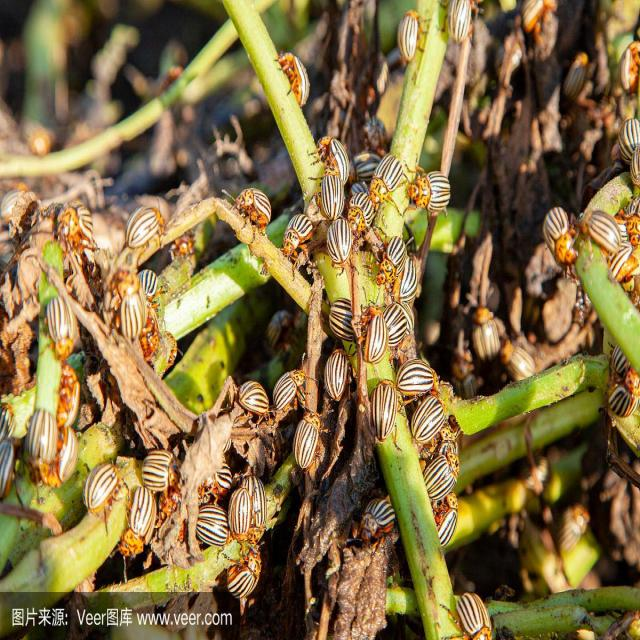ShuCaiHuaBanChong-Grown-: (218, 175, 282, 234), (538, 202, 580, 285), (408, 164, 464, 226), (57, 178, 98, 253), (394, 354, 444, 404), (377, 304, 420, 361), (365, 376, 399, 447), (116, 204, 170, 248), (321, 220, 362, 277), (290, 408, 324, 476), (367, 151, 406, 210), (222, 481, 256, 546), (354, 297, 385, 368), (278, 51, 318, 106), (576, 202, 620, 252), (316, 125, 352, 186), (356, 494, 399, 545), (280, 212, 321, 264), (126, 483, 156, 554), (409, 388, 447, 443), (390, 8, 430, 60), (268, 362, 308, 414), (42, 296, 76, 357), (418, 447, 459, 497), (82, 454, 116, 514), (454, 594, 498, 640), (232, 380, 272, 430), (27, 403, 49, 493), (189, 498, 227, 550), (222, 546, 264, 593), (426, 494, 461, 550), (614, 361, 640, 433), (53, 422, 79, 488), (111, 294, 143, 347), (395, 250, 421, 312), (317, 173, 347, 226), (376, 231, 406, 284), (326, 348, 350, 412), (347, 191, 377, 238), (329, 300, 356, 350), (446, 1, 476, 45), (54, 370, 78, 424), (139, 456, 177, 486), (136, 262, 160, 306)
